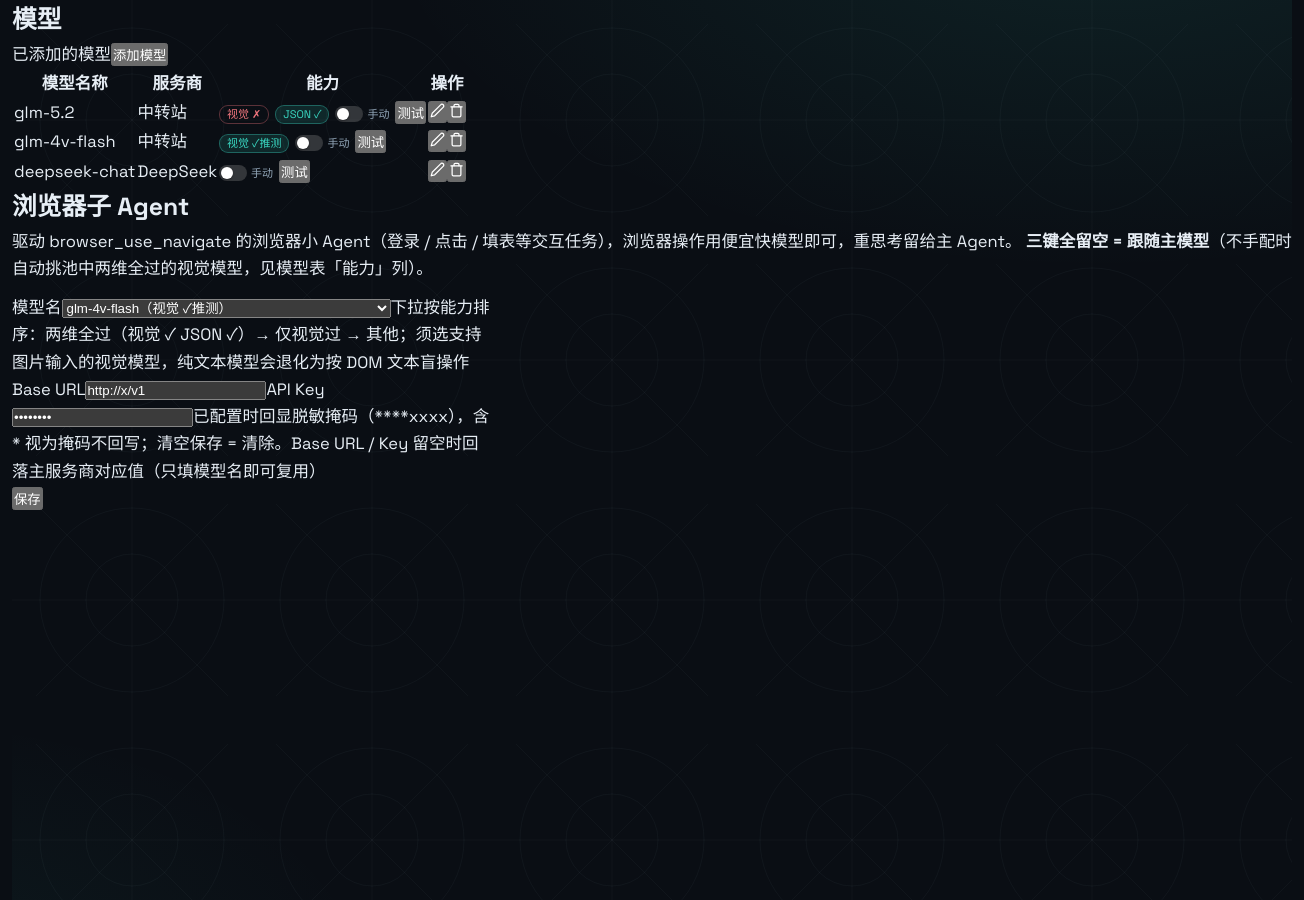
Scenario: SettingsModels：模型列表与能力徽章 › 每行有测试按钮，点击调 probeModel 并展示模型原话
Click the button "测试" in the row of "视觉 ✗": (411, 113) top-left (395, 101), bottom-right (426, 124)
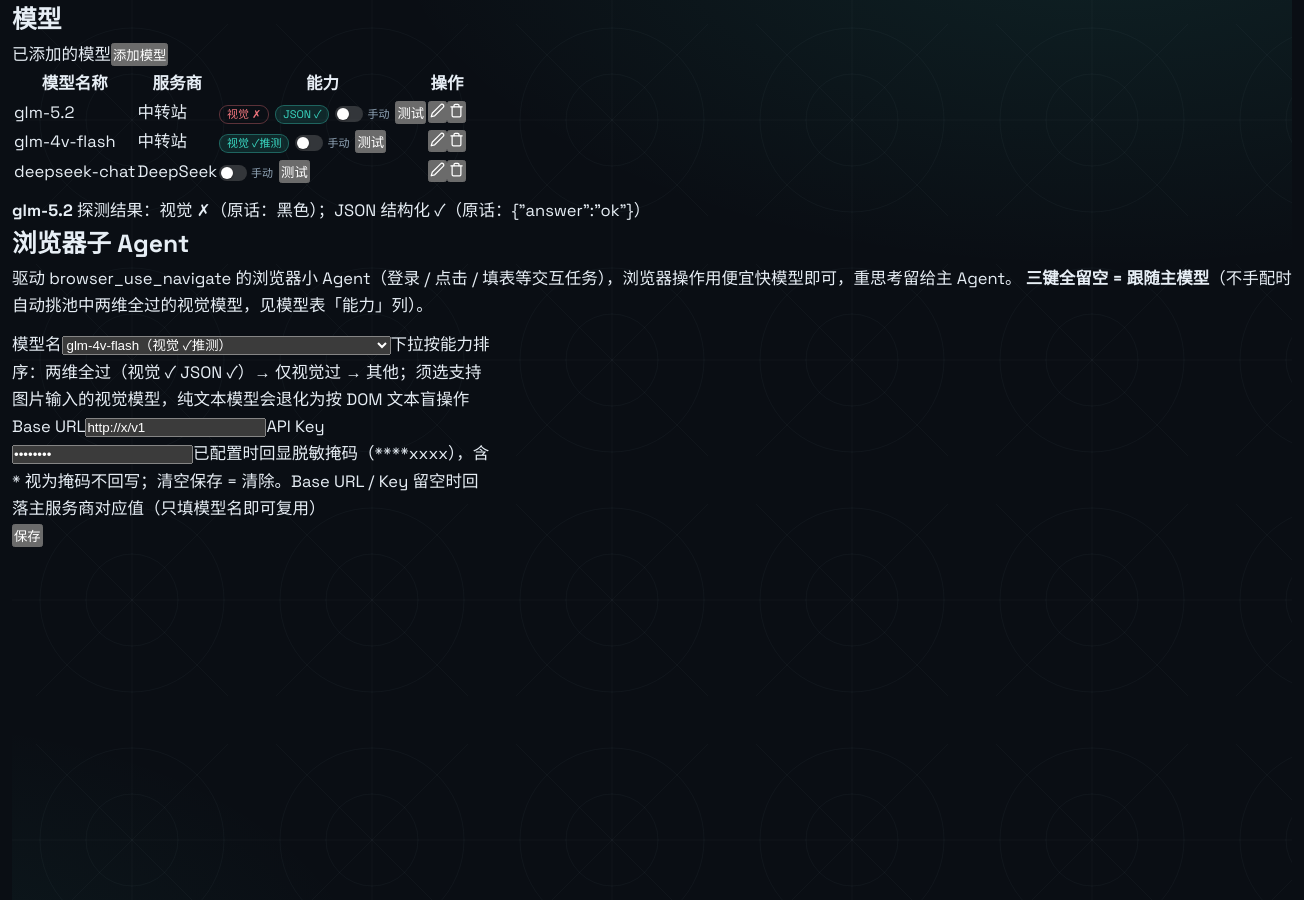
Check: the text "探测结果" is shown, box top-left (73, 200), bottom-right (650, 221)
Check: the text "黑色" is shown, box top-left (73, 200), bottom-right (650, 221)
Check: the text "{\"answer\":\"ok\"}" is shown, box top-left (73, 200), bottom-right (650, 221)
